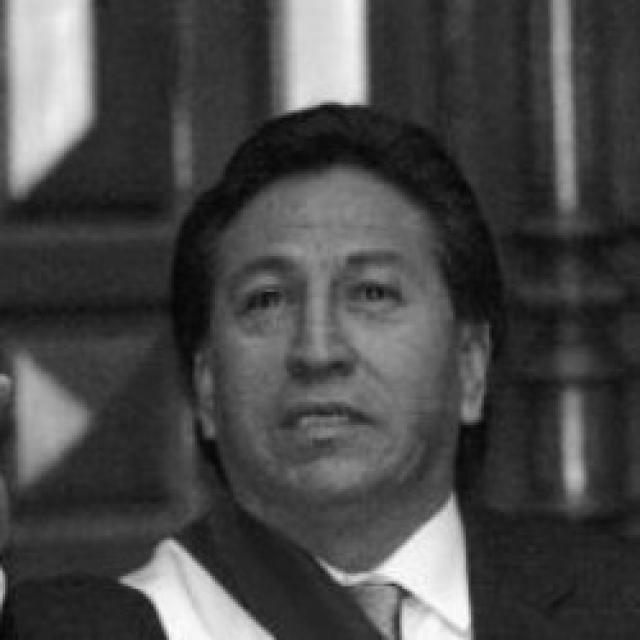real: (210, 174, 454, 512), (240, 274, 414, 334)
